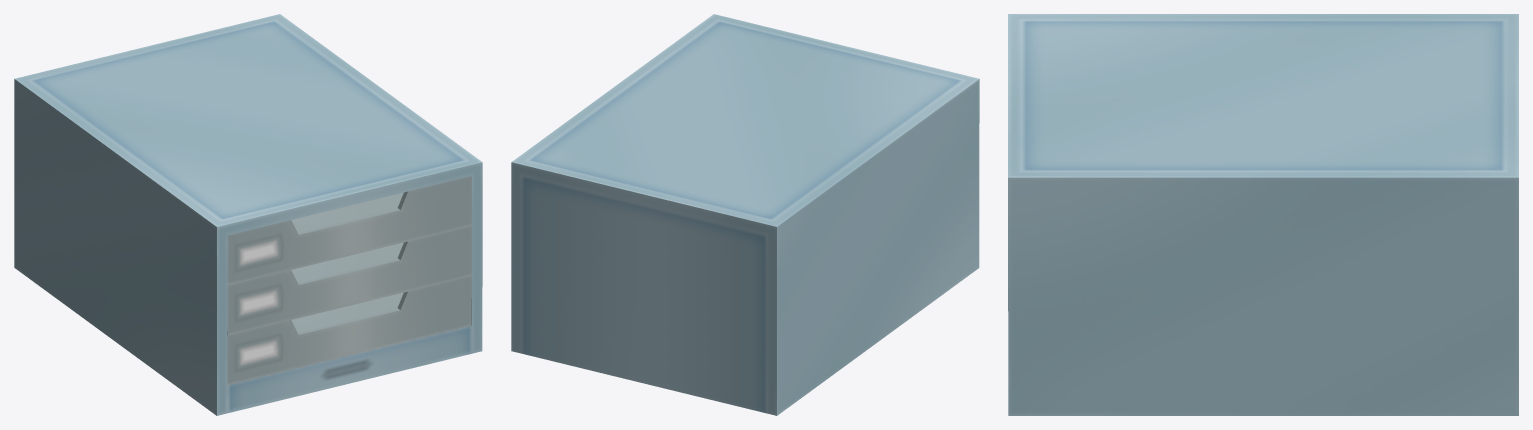
File: Mini_chest_01_01.fbx
The picture shows the model from 3 angles, left to right: view 1: azimuth 30°, elevation 25°; view 2: azimuth 150°, elevation 25°; view 3: azimuth 270°, elevation 25°; orthographic projection. The views are drawn at different scales.
Parts seen in each view (by area): view 1: mini_chest01, drawer02, drawer01, drawer03; view 2: mini_chest01; view 3: mini_chest01.
Part boxes in pixels (x1,y1,x2,y2): mini_chest01: (14, 14, 482, 415); drawer02: (227, 226, 471, 335); drawer01: (227, 176, 471, 285); drawer03: (227, 276, 471, 385); mini_chest01: (511, 14, 979, 415); mini_chest01: (1008, 14, 1518, 415).
Size of the model in its own units: 25 by 17 by 33.01.
